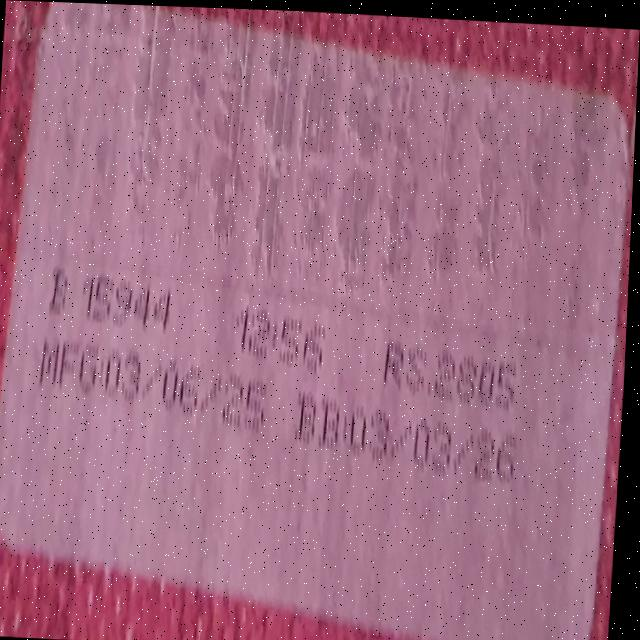BB: (291, 382, 524, 499)
Batch: (47, 239, 177, 329)
MFG: (36, 327, 274, 452)
RS: (377, 320, 534, 413)
TimeStamp: (235, 292, 339, 379)
